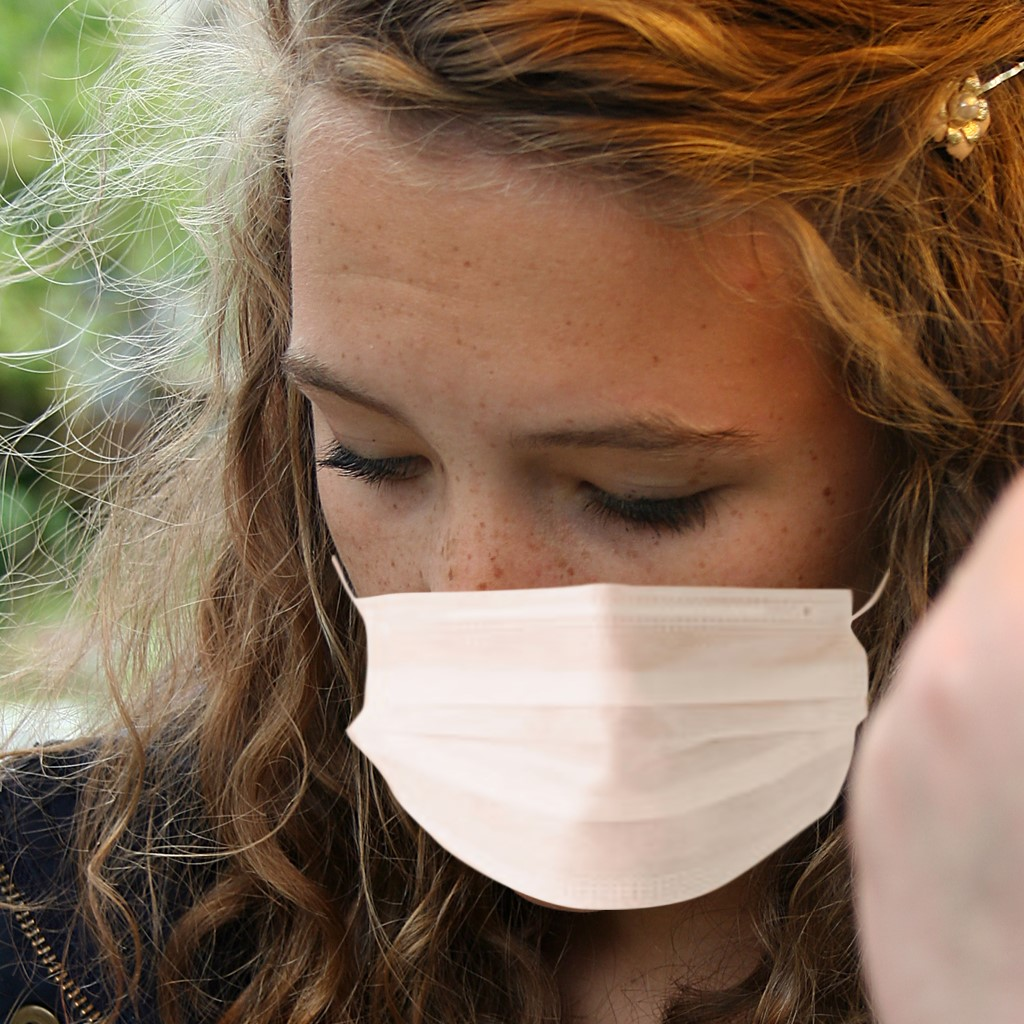con_mascara: (281, 80, 886, 908)
